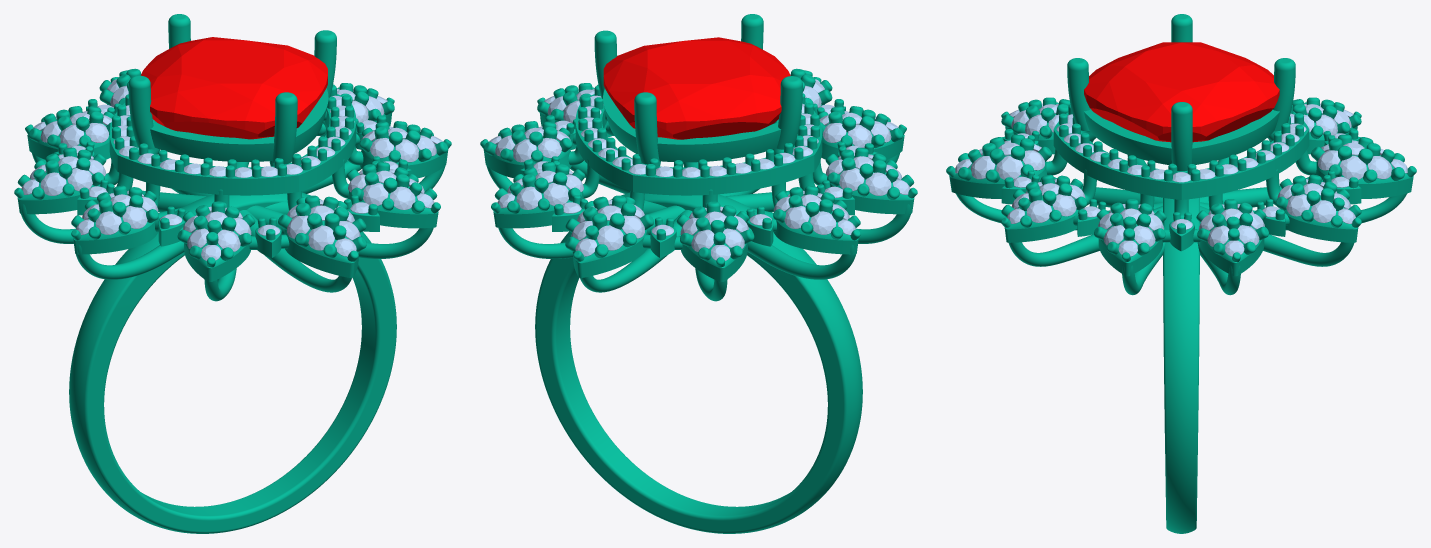
3 renders of one model, left to right at view 1: azimuth 30°, elevation 25°; view 2: azimuth 150°, elevation 25°; view 3: azimuth 270°, elevation 25°, orthographic. The views are drawn at different scales.
Parts seen in each view (by area): view 1: RING (2).3dm, Diamond_Cushion Square, Diamond_Round; view 2: RING (2).3dm, Diamond_Cushion Square, Diamond_Round; view 3: RING (2).3dm, Diamond_Cushion Square.
Boxes of the visible parts, x1,y1,x2,y2 form: RING (2).3dm: [17, 14, 448, 533]; Diamond_Cushion Square: [141, 37, 327, 139]; Diamond_Round: [308, 225, 334, 250]; RING (2).3dm: [483, 14, 914, 533]; Diamond_Cushion Square: [603, 37, 790, 139]; Diamond_Round: [597, 225, 623, 250]; RING (2).3dm: [949, 14, 1413, 533]; Diamond_Cushion Square: [1084, 42, 1279, 142].
Size of the model in its own units: 2.09 by 2.49 by 2.33.
